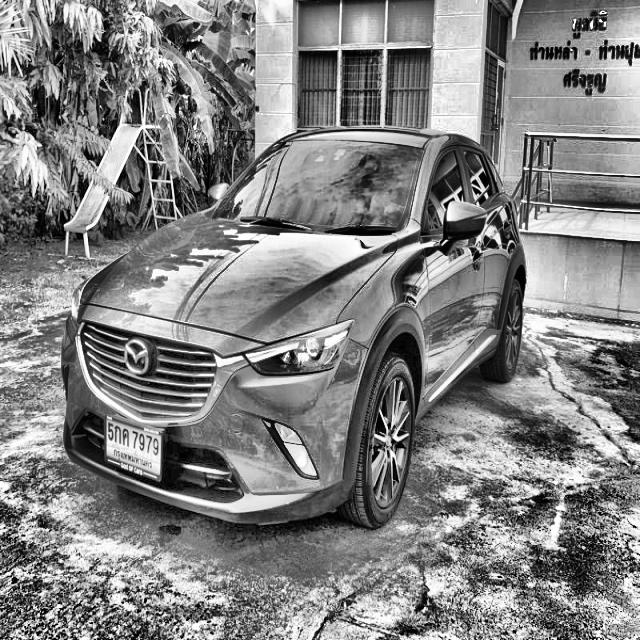license-plate: (101, 402, 167, 494)
